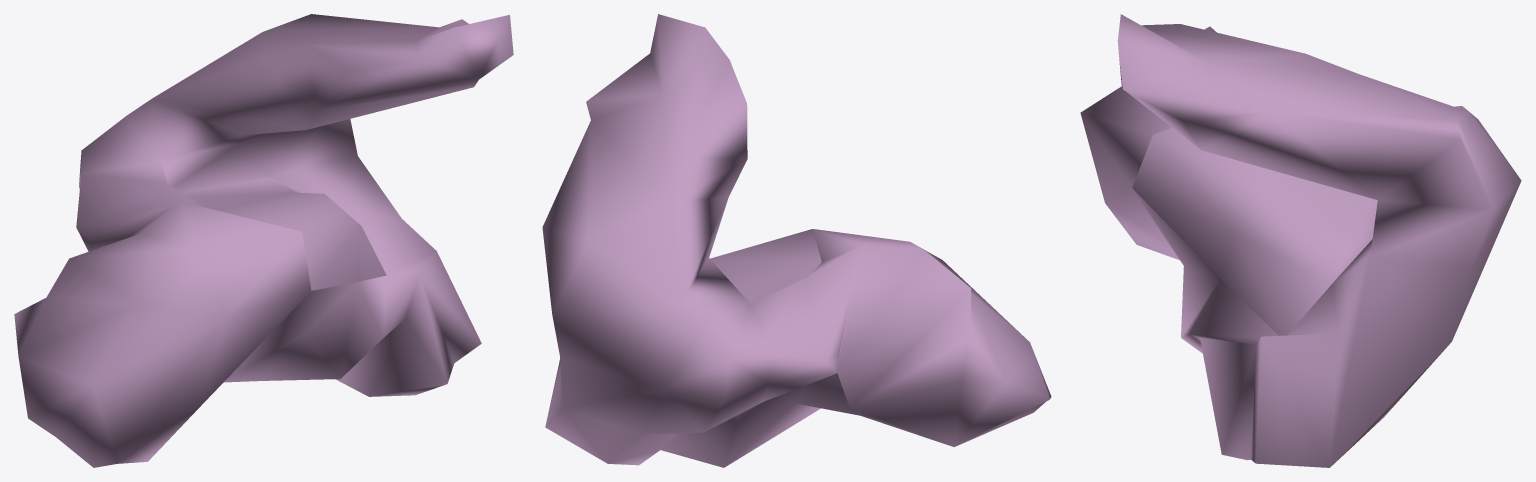
3 renders of one model, left to right at view 1: azimuth 30°, elevation 25°; view 2: azimuth 150°, elevation 25°; view 3: azimuth 270°, elevation 25°, orthographic. The views are drawn at different scales.
Visible parts, largest first — view 1: 右侧侧副沟后横支; view 2: 右侧侧副沟后横支; view 3: 右侧侧副沟后横支.
Boxes of the visible parts, <box> form: 右侧侧副沟后横支: <box>14,14,513,467</box>; 右侧侧副沟后横支: <box>542,14,1051,467</box>; 右侧侧副沟后横支: <box>1080,14,1521,467</box>.
Size of the model in its own units: 0.0267 by 0.0218 by 0.0196.
